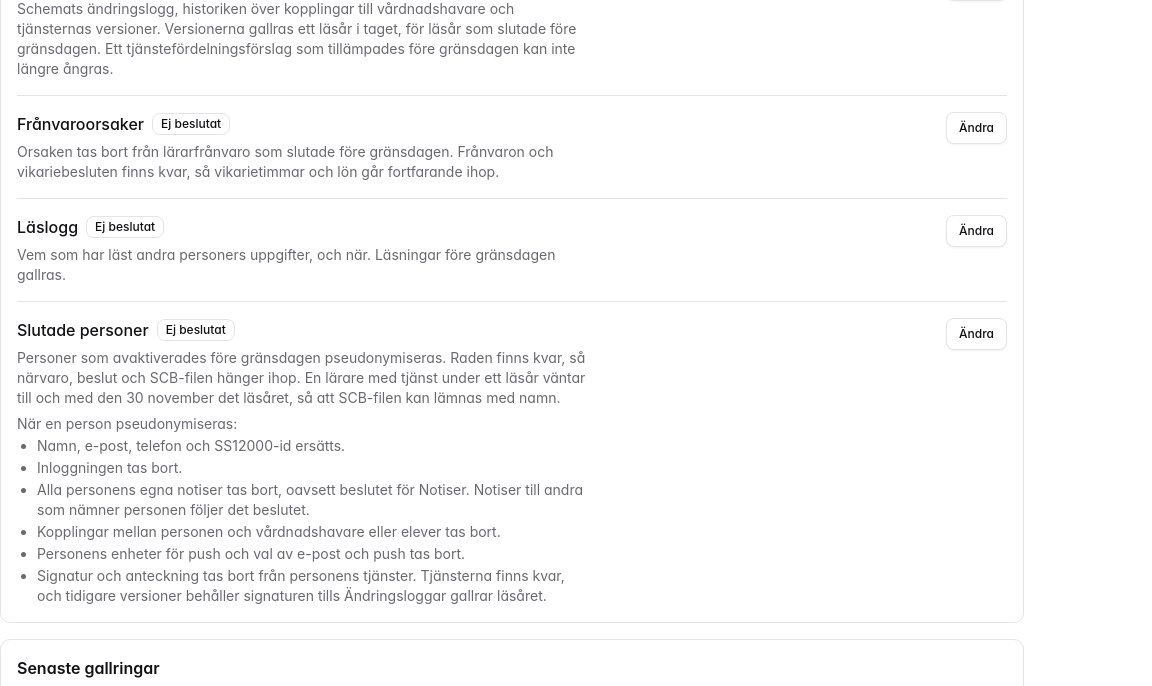
Test case: /admin/dataskydd › saves Bevaras without months and with the ordinary button, and shows a refusal where it was pressed
(page scrolled)
Click the button with aria-label "Ändra gallringsperioden för Slutade personer" at (976,334), box [946, 318, 1007, 350]
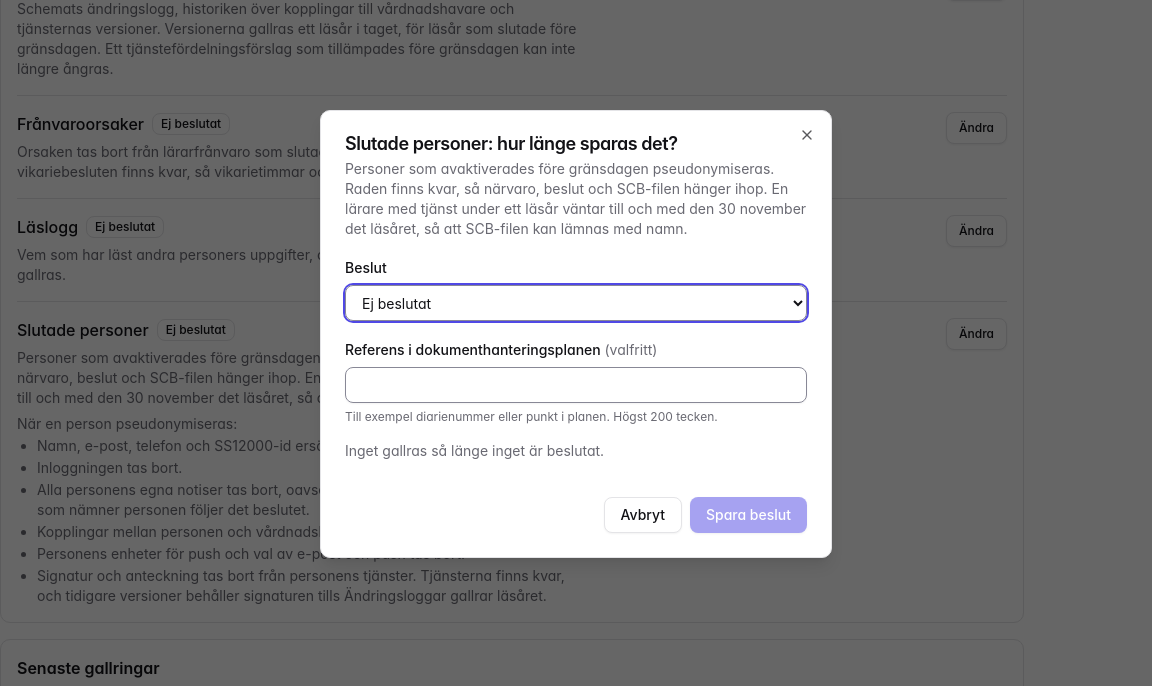
Select "Bevaras (gallras inte)" in the dropdown labelled "Beslut" at (576,303), box [345, 285, 807, 321]
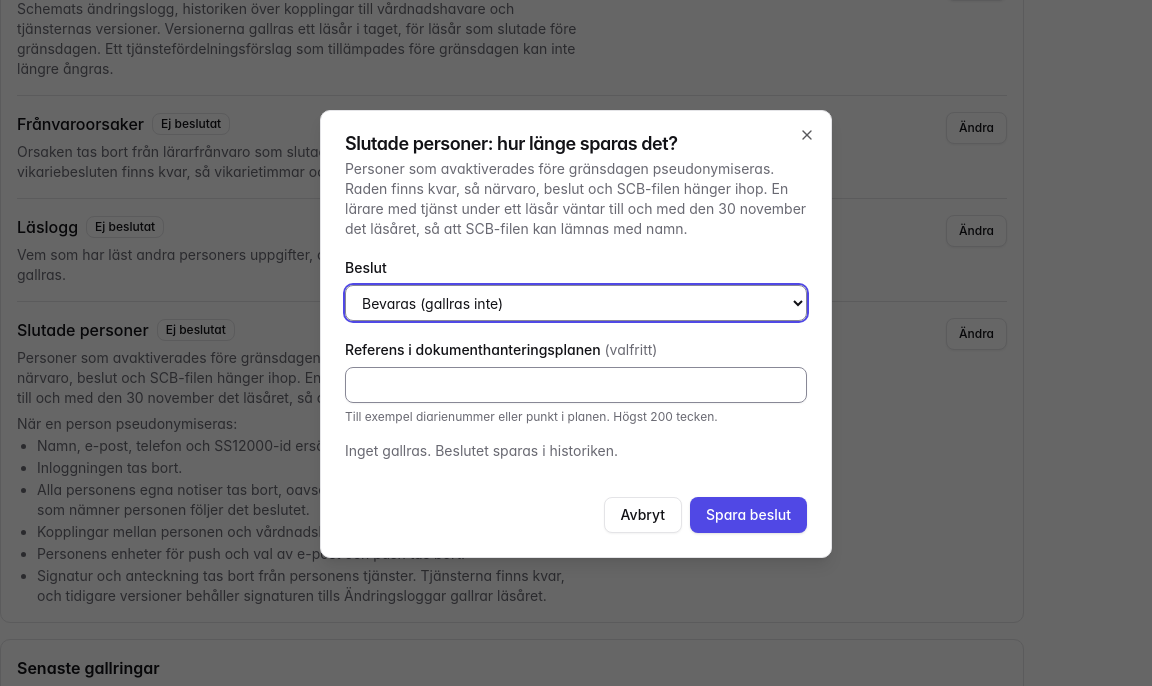
Expected: the text "Inget gallras. Beslutet sparas i historiken." is shown, [345, 442, 618, 459]
Click the button "Spara beslut" at (748,515), box [690, 497, 807, 533]
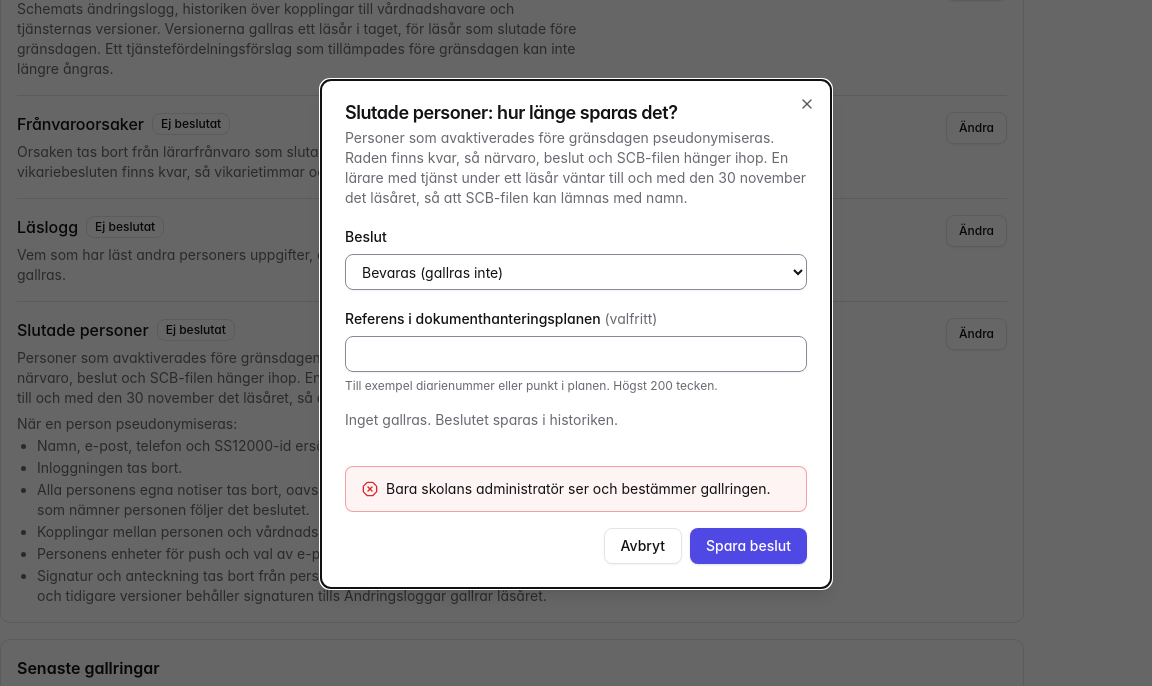
Expected: the text "Bara skolans administratör ser och bestämmer gallringen." is shown, [386, 479, 790, 499]
